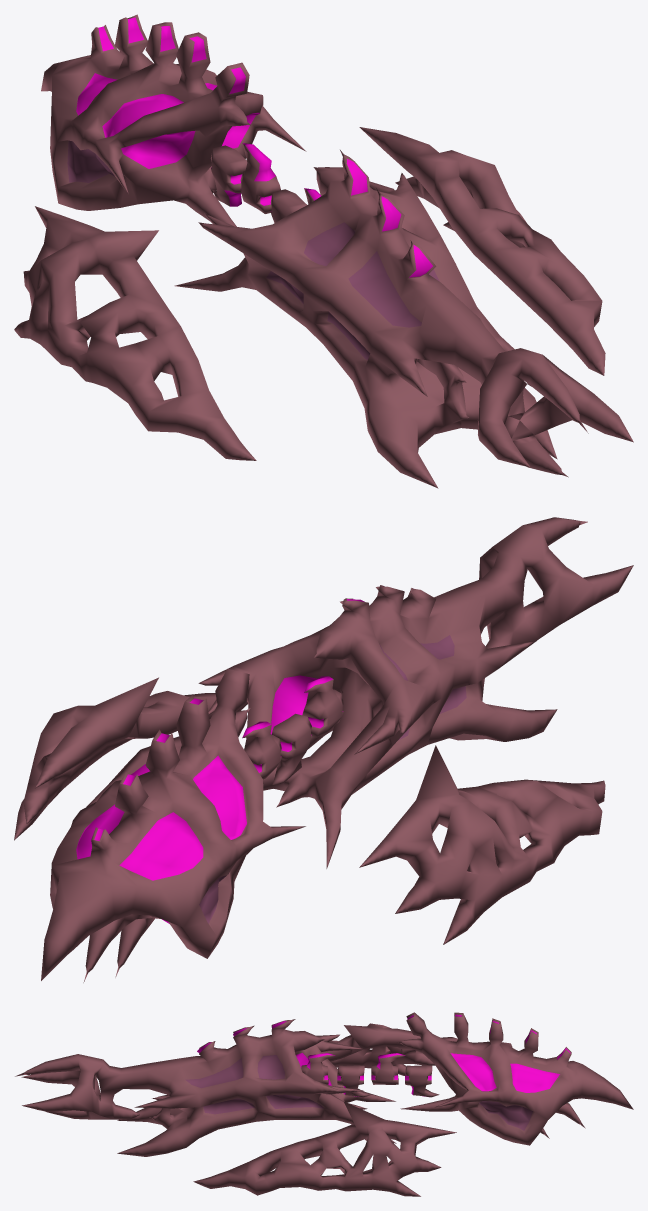
Rendered from Basic2.fbx.
3 renders of one model, top to bottom at view 1: azimuth 30°, elevation 25°; view 2: azimuth 150°, elevation 25°; view 3: azimuth 270°, elevation 25°, orthographic. The views are drawn at different scales.
Parts seen in each view (by area): view 1: ShipLower, ShipUpper, Wing.L, Wing.R, Spine.001, Spine, Spine.002; view 2: ShipLower, ShipUpper, Wing.L, Wing.R, Spine.002, Spine.003, Spine.001; view 3: ShipLower, ShipUpper, Wing.R, Wing.L, Spine, Spine.001, Spine.002, Spine.003.
Boxes of the visible parts, bbox=[...] form: ShipLower: bbox=[174, 150, 633, 488]; ShipUpper: bbox=[41, 14, 306, 226]; Wing.L: bbox=[14, 206, 256, 460]; Wing.R: bbox=[359, 127, 605, 375]; Spine.001: bbox=[240, 143, 280, 213]; Spine: bbox=[211, 145, 247, 206]; Spine.002: bbox=[270, 189, 306, 222]; ShipLower: bbox=[198, 517, 633, 868]; ShipUpper: bbox=[41, 668, 305, 982]; Wing.L: bbox=[359, 745, 605, 944]; Wing.R: bbox=[14, 677, 247, 840]; Spine.002: bbox=[271, 713, 311, 784]; Spine.003: bbox=[302, 676, 343, 737]; Spine.001: bbox=[242, 721, 281, 779]; ShipLower: bbox=[15, 1019, 396, 1156]; ShipUpper: bbox=[397, 1012, 633, 1145]; Wing.R: bbox=[193, 1101, 456, 1196]; Wing.L: bbox=[321, 1023, 435, 1075]; Spine: bbox=[405, 1065, 439, 1097]; Spine.001: bbox=[371, 1053, 405, 1084]; Spine.002: bbox=[337, 1065, 371, 1097]; Spine.003: bbox=[301, 1053, 335, 1084].
Size of the model in its own units: 10.9 by 4.87 by 21.9.
